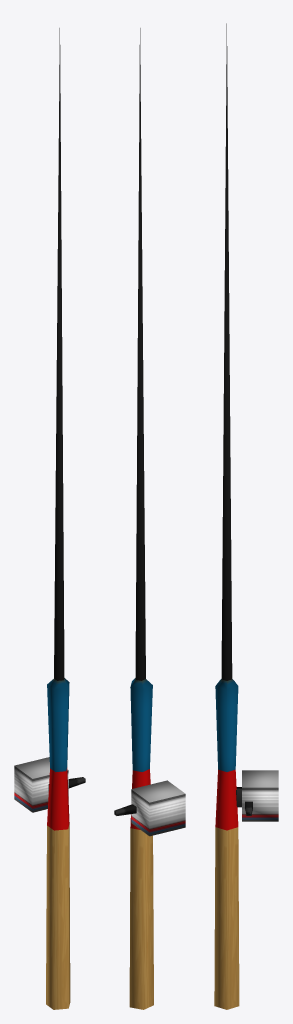
File: FishingPole.fbx
3 renders of one model, left to right at view 1: azimuth 30°, elevation 25°; view 2: azimuth 210°, elevation 25°; view 3: azimuth 270°, elevation 25°, orthographic.
Parts seen in each view (by area): view 1: Maya_File_Assets:TexturedAssetsCurrent:fishing_pole_01; view 2: Maya_File_Assets:TexturedAssetsCurrent:fishing_pole_01; view 3: Maya_File_Assets:TexturedAssetsCurrent:fishing_pole_01.
Boxes of the visible parts, x1,y1,x2,y2 form: Maya_File_Assets:TexturedAssetsCurrent:fishing_pole_01: (14, 28, 85, 1009); Maya_File_Assets:TexturedAssetsCurrent:fishing_pole_01: (114, 28, 185, 1009); Maya_File_Assets:TexturedAssetsCurrent:fishing_pole_01: (214, 23, 278, 1009).
Size of the model in its own units: 0.1079 by 1.84 by 0.1082.
